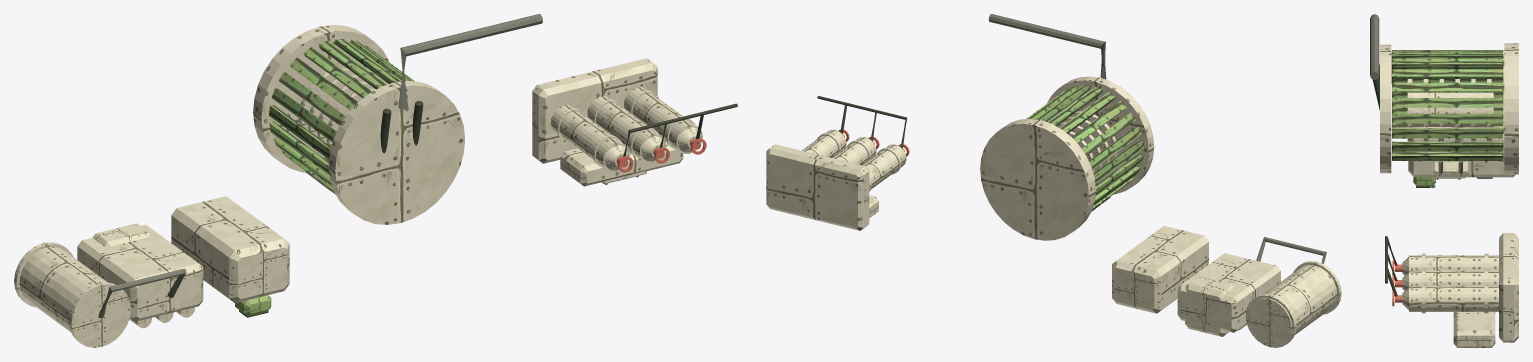
The model's file is ECHO7_15_Reactor_Soporte_Vital.obj.
The picture shows the model from 3 angles, left to right: view 1: azimuth 30°, elevation 25°; view 2: azimuth 150°, elevation 25°; view 3: azimuth 270°, elevation 25°; orthographic projection. The views are drawn at different scales.
Parts seen in each view (by area): view 1: ECHO7_15_Reactor_Soporte_Vital__Reactor_cabezal_01, ECHO7_15_Reactor_Soporte_Vital__Armario_distribucion_01, ECHO7_15_Reactor_Soporte_Vital__Bastidor_membranas_01, ECHO7_15_Reactor_Soporte_Vital__Base_oxigeno_01, ECHO7_15_Reactor_Soporte_Vital__Reactor_plataforma_01, ECHO7_15_Reactor_Soporte_Vital__Deposito_agua_01, ECHO7_15_Reactor_Soporte_Vital__Collar_deposito_agua_02, ECHO7_15_Reactor_Soporte_Vital__Filtro_CO2_01, ECHO7_15_Reactor_Soporte_Vital__Botella_oxigeno_01, ECHO7_15_Reactor_Soporte_Vital__Reactor_colector_01, ECHO7_15_Reactor_Soporte_Vital__Botella_oxigeno_02, ECHO7_15_Reactor_Soporte_Vital__Botella_oxigeno_03 (+12 smaller); view 2: ECHO7_15_Reactor_Soporte_Vital__Reactor_plataforma_01, ECHO7_15_Reactor_Soporte_Vital__Base_oxigeno_01, ECHO7_15_Reactor_Soporte_Vital__Armario_distribucion_01, ECHO7_15_Reactor_Soporte_Vital__Bastidor_membranas_01, ECHO7_15_Reactor_Soporte_Vital__Deposito_agua_01, ECHO7_15_Reactor_Soporte_Vital__Reactor_cabezal_01, ECHO7_15_Reactor_Soporte_Vital__Bomba_agua_01, ECHO7_15_Reactor_Soporte_Vital__Reactor_colector_01, ECHO7_15_Reactor_Soporte_Vital__Botella_oxigeno_01, ECHO7_15_Reactor_Soporte_Vital__Botella_oxigeno_02, ECHO7_15_Reactor_Soporte_Vital__Botella_oxigeno_03, ECHO7_15_Reactor_Soporte_Vital__Blindaje_reactor_10 (+9 smaller); view 3: ECHO7_15_Reactor_Soporte_Vital__Botella_oxigeno_03, ECHO7_15_Reactor_Soporte_Vital__Base_oxigeno_01, ECHO7_15_Reactor_Soporte_Vital__Reactor_plataforma_01, ECHO7_15_Reactor_Soporte_Vital__Armario_distribucion_01, ECHO7_15_Reactor_Soporte_Vital__Reactor_cabezal_01, ECHO7_15_Reactor_Soporte_Vital__Filtro_CO2_01, ECHO7_15_Reactor_Soporte_Vital__Botella_oxigeno_01, ECHO7_15_Reactor_Soporte_Vital__Botella_oxigeno_02, ECHO7_15_Reactor_Soporte_Vital__Blindaje_reactor_02, ECHO7_15_Reactor_Soporte_Vital__Blindaje_reactor_03, ECHO7_15_Reactor_Soporte_Vital__Blindaje_reactor_06, ECHO7_15_Reactor_Soporte_Vital__Blindaje_reactor_04 (+22 smaller).
Part boxes in pixels (x1,y1,x2,y2): ECHO7_15_Reactor_Soporte_Vital__Reactor_cabezal_01: (328,80,464,224); ECHO7_15_Reactor_Soporte_Vital__Armario_distribucion_01: (171,196,289,302); ECHO7_15_Reactor_Soporte_Vital__Bastidor_membranas_01: (77,224,203,321); ECHO7_15_Reactor_Soporte_Vital__Base_oxigeno_01: (532,58,657,163); ECHO7_15_Reactor_Soporte_Vital__Reactor_plataforma_01: (253,25,389,172); ECHO7_15_Reactor_Soporte_Vital__Deposito_agua_01: (19,247,107,332); ECHO7_15_Reactor_Soporte_Vital__Collar_deposito_agua_02: (69,282,130,347); ECHO7_15_Reactor_Soporte_Vital__Filtro_CO2_01: (560,141,683,186); ECHO7_15_Reactor_Soporte_Vital__Botella_oxigeno_01: (551,105,629,171); ECHO7_15_Reactor_Soporte_Vital__Reactor_colector_01: (398,14,542,109); ECHO7_15_Reactor_Soporte_Vital__Botella_oxigeno_02: (587,96,666,162); ECHO7_15_Reactor_Soporte_Vital__Botella_oxigeno_03: (624,87,702,153); ECHO7_15_Reactor_Soporte_Vital__Reactor_plataforma_01: (980,118,1095,240); ECHO7_15_Reactor_Soporte_Vital__Base_oxigeno_01: (766,144,869,230); ECHO7_15_Reactor_Soporte_Vital__Armario_distribucion_01: (1112,226,1208,313); ECHO7_15_Reactor_Soporte_Vital__Bastidor_membranas_01: (1177,253,1280,332); ECHO7_15_Reactor_Soporte_Vital__Deposito_agua_01: (1247,265,1337,345); ECHO7_15_Reactor_Soporte_Vital__Reactor_cabezal_01: (1046,76,1154,194); ECHO7_15_Reactor_Soporte_Vital__Bomba_agua_01: (1185,276,1234,336); ECHO7_15_Reactor_Soporte_Vital__Reactor_colector_01: (988,14,1106,79); ECHO7_15_Reactor_Soporte_Vital__Botella_oxigeno_01: (862,144,906,189); ECHO7_15_Reactor_Soporte_Vital__Botella_oxigeno_02: (832,137,876,165); ECHO7_15_Reactor_Soporte_Vital__Botella_oxigeno_03: (802,129,846,157); ECHO7_15_Reactor_Soporte_Vital__Blindaje_reactor_10: (1060,92,1115,133); ECHO7_15_Reactor_Soporte_Vital__Botella_oxigeno_03: (1409,285,1498,311); ECHO7_15_Reactor_Soporte_Vital__Base_oxigeno_01: (1499,233,1518,342); ECHO7_15_Reactor_Soporte_Vital__Reactor_plataforma_01: (1504,43,1518,174); ECHO7_15_Reactor_Soporte_Vital__Armario_distribucion_01: (1408,111,1515,177); ECHO7_15_Reactor_Soporte_Vital__Reactor_cabezal_01: (1380,44,1391,173); ECHO7_15_Reactor_Soporte_Vital__Filtro_CO2_01: (1453,312,1495,347); ECHO7_15_Reactor_Soporte_Vital__Botella_oxigeno_01: (1409,255,1498,270); ECHO7_15_Reactor_Soporte_Vital__Botella_oxigeno_02: (1409,270,1498,285); ECHO7_15_Reactor_Soporte_Vital__Blindaje_reactor_02: (1392,141,1503,151); ECHO7_15_Reactor_Soporte_Vital__Blindaje_reactor_03: (1392,128,1503,138); ECHO7_15_Reactor_Soporte_Vital__Blindaje_reactor_06: (1392,82,1503,92); ECHO7_15_Reactor_Soporte_Vital__Blindaje_reactor_04: (1392,114,1503,123).
Bounding box in the file's own units: 14.25 × 5.37 × 3.28.
Materials: 6 (6 with a texture image).
